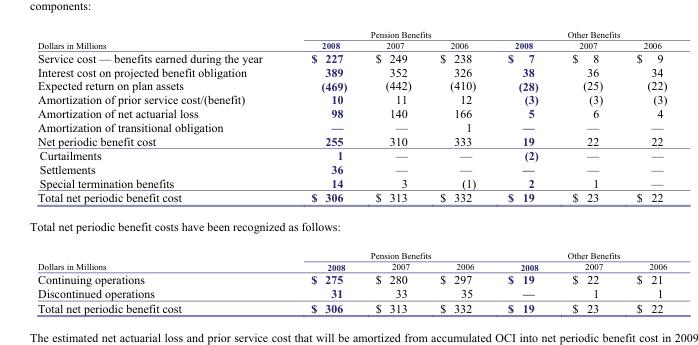table: (29, 28, 666, 314)
table column: (29, 28, 286, 314), (286, 28, 360, 314), (424, 28, 491, 314), (360, 28, 424, 314), (554, 28, 618, 314), (491, 28, 554, 314), (618, 28, 666, 314)
table column header: (29, 28, 666, 50)
table projected row header: (29, 211, 666, 241)
table row: (29, 211, 666, 241), (29, 189, 666, 211), (29, 241, 666, 260), (29, 50, 666, 64), (29, 64, 666, 78), (29, 78, 666, 92), (29, 92, 666, 106), (29, 119, 666, 133), (29, 133, 666, 147), (29, 147, 666, 161), (29, 161, 666, 175), (29, 175, 666, 189), (29, 272, 666, 286), (29, 286, 666, 300), (29, 300, 666, 314), (29, 106, 666, 119), (29, 260, 666, 272), (29, 28, 666, 39), (29, 39, 666, 50)
table spanning cell: (29, 28, 286, 50), (286, 241, 491, 260), (491, 241, 666, 260), (286, 28, 491, 39), (491, 28, 666, 39)
